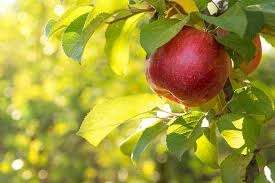apple: (143, 26, 233, 106)
